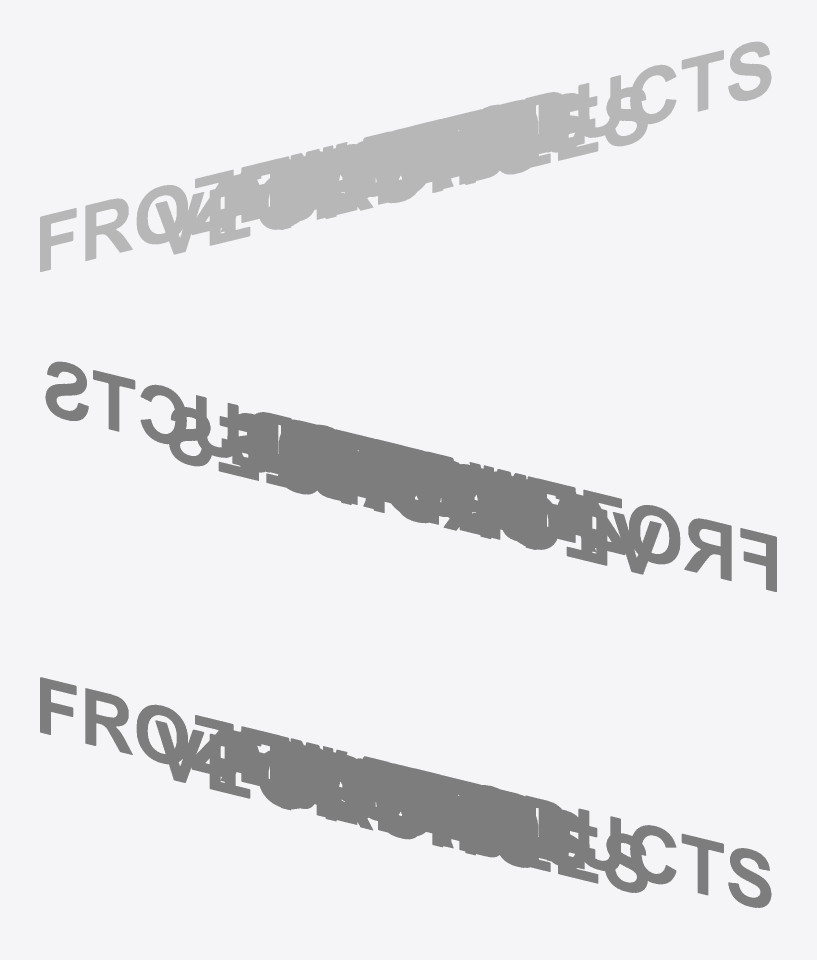
Rendered from products_name.FBX.
3 views of the same model, one above another, from view 1: azimuth 30°, elevation 25°; view 2: azimuth 150°, elevation 25°; view 3: azimuth 330°, elevation 25° (orthographic).
Parts seen in each view (by area): view 1: tittle_frozen, tittle_vegetables, tittle_tin_can, tittle_water, tittle_alcohol, tittle_books, tittle_flowers, tittle_fruits, tittle_toys; view 2: tittle_vegetables, tittle_frozen, tittle_flowers, tittle_water, tittle_soda, tittle_fruits, tittle_books, tittle_toys, tittle_tin_can, tittle_alcohol; view 3: tittle_frozen, tittle_vegetables, tittle_flowers, tittle_toys, tittle_soda, tittle_books, tittle_tin_can, tittle_alcohol, tittle_fruits, tittle_water.
Part boxes in pixels (box(x1,y1,x2,y2)): tittle_frozen: box(40, 41, 771, 271); tittle_vegetables: box(155, 86, 647, 254); tittle_tin_can: box(256, 96, 548, 219); tittle_water: box(278, 99, 535, 211); tittle_alcohol: box(220, 95, 584, 232); tittle_books: box(277, 112, 534, 221); tittle_flowers: box(224, 93, 582, 232); tittle_fruits: box(280, 118, 538, 229); tittle_toys: box(306, 112, 490, 207); tittle_vegetables: box(169, 406, 661, 574); tittle_frozen: box(45, 361, 776, 591); tittle_flowers: box(231, 413, 592, 552); tittle_water: box(278, 419, 536, 526); tittle_soda: box(325, 433, 522, 530); tittle_fruits: box(278, 438, 535, 549); tittle_books: box(283, 437, 535, 540); tittle_toys: box(326, 433, 511, 517); tittle_tin_can: box(268, 416, 555, 519); tittle_alcohol: box(232, 415, 596, 552); tittle_frozen: box(40, 677, 771, 907); tittle_vegetables: box(155, 720, 647, 892); tittle_flowers: box(224, 728, 585, 868); tittle_toys: box(305, 747, 500, 846); tittle_soda: box(292, 745, 502, 848); tittle_books: box(272, 746, 534, 862); tittle_tin_can: box(256, 733, 548, 859); tittle_alcohol: box(220, 730, 584, 869); tittle_fruits: box(281, 754, 538, 867); tittle_water: box(278, 735, 537, 853).
Bounding box in the file's own units: 0.8328 × 0.1 × 4.37e-09.
